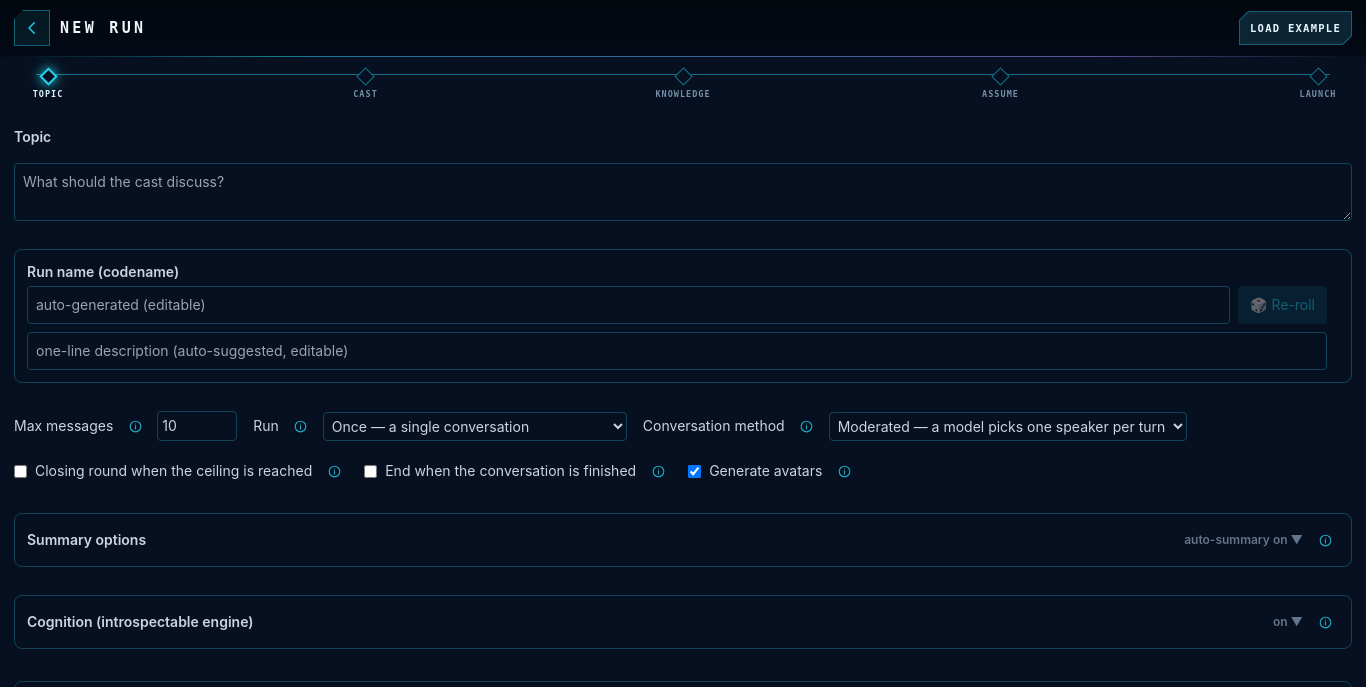
NewRunForm run type › restores the operator choice when switching back to a single run
The image size is (1366, 687).
Expected: the dropdown next to "Once" is shown, 323,412 -> 627,440
Click the button "Load example": (1296, 28) 1239,11 -> 1352,45
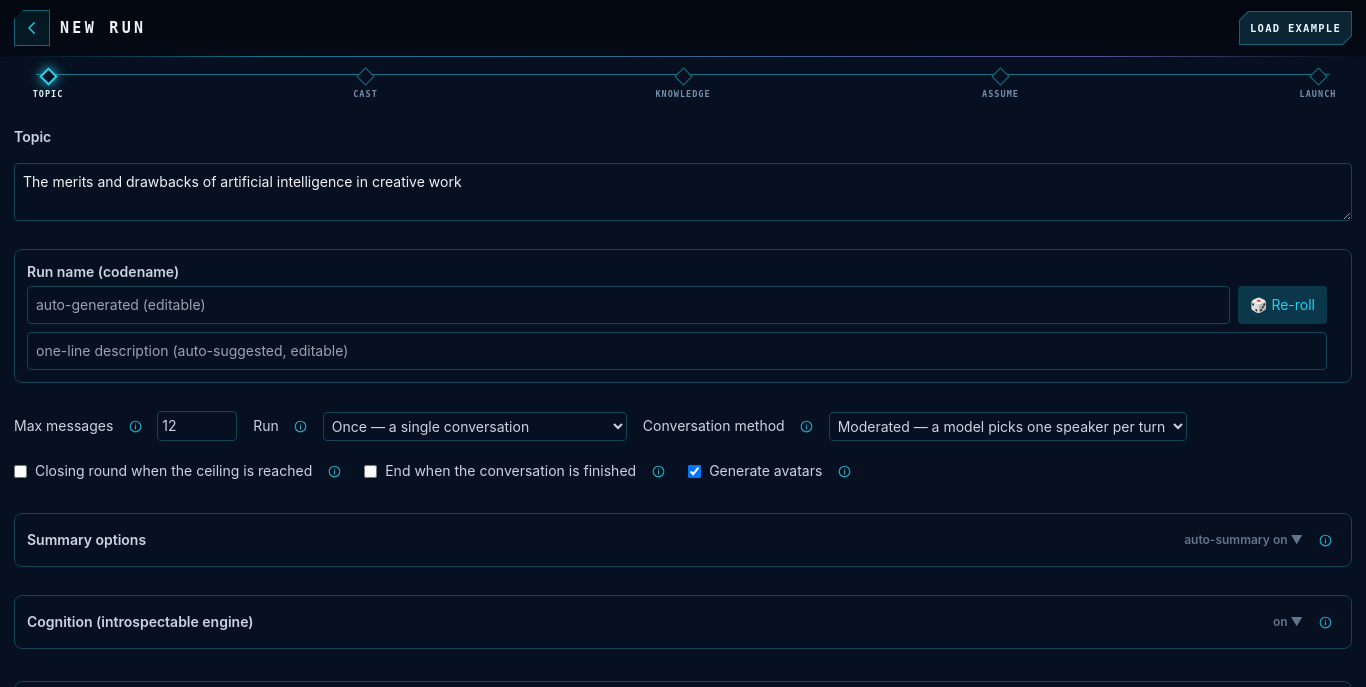
Expected: the checkbox labelled "Generate avatars" is checked, 688,464 -> 701,478
Select "Several times — same brief, then a report" in the dropdown next to "Once": (475, 426) 323,412 -> 627,440
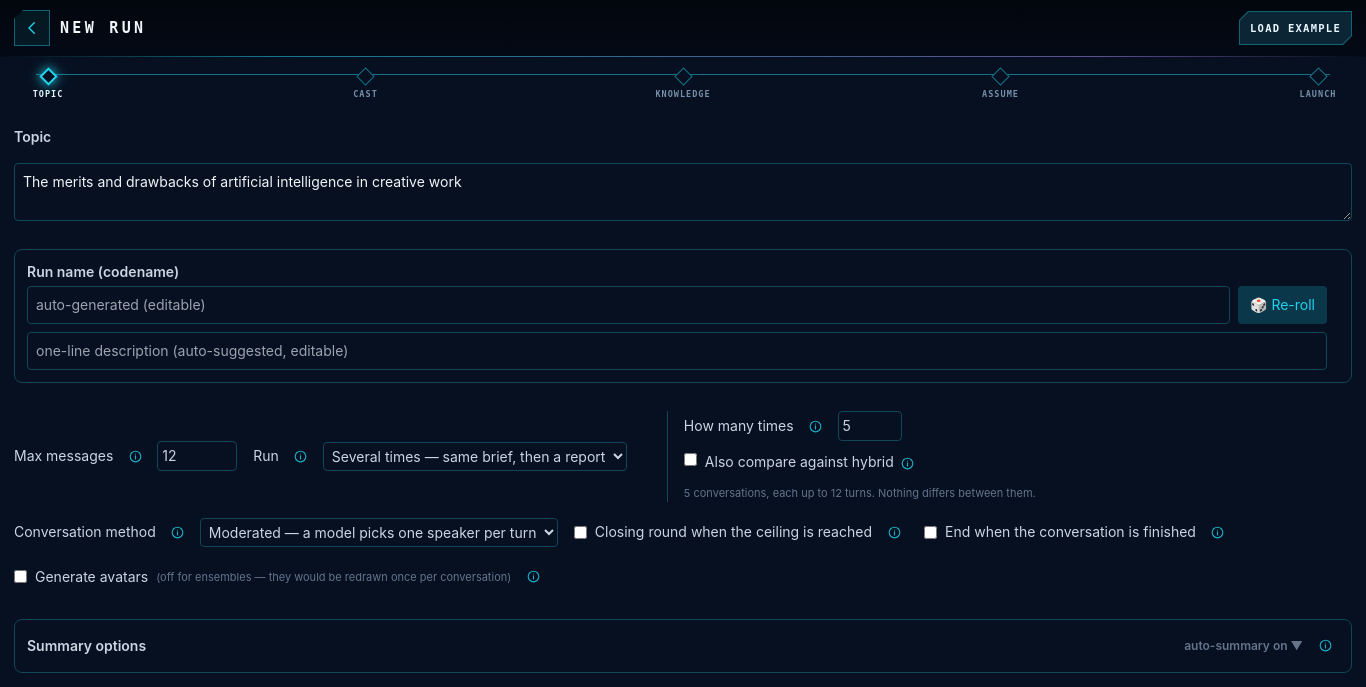
Now the checkbox labelled "Generate avatars" is not checked, box 14,570 -> 27,583
Select "Once — a single conversation" in the 1st dropdown: (475, 456) 323,442 -> 627,471
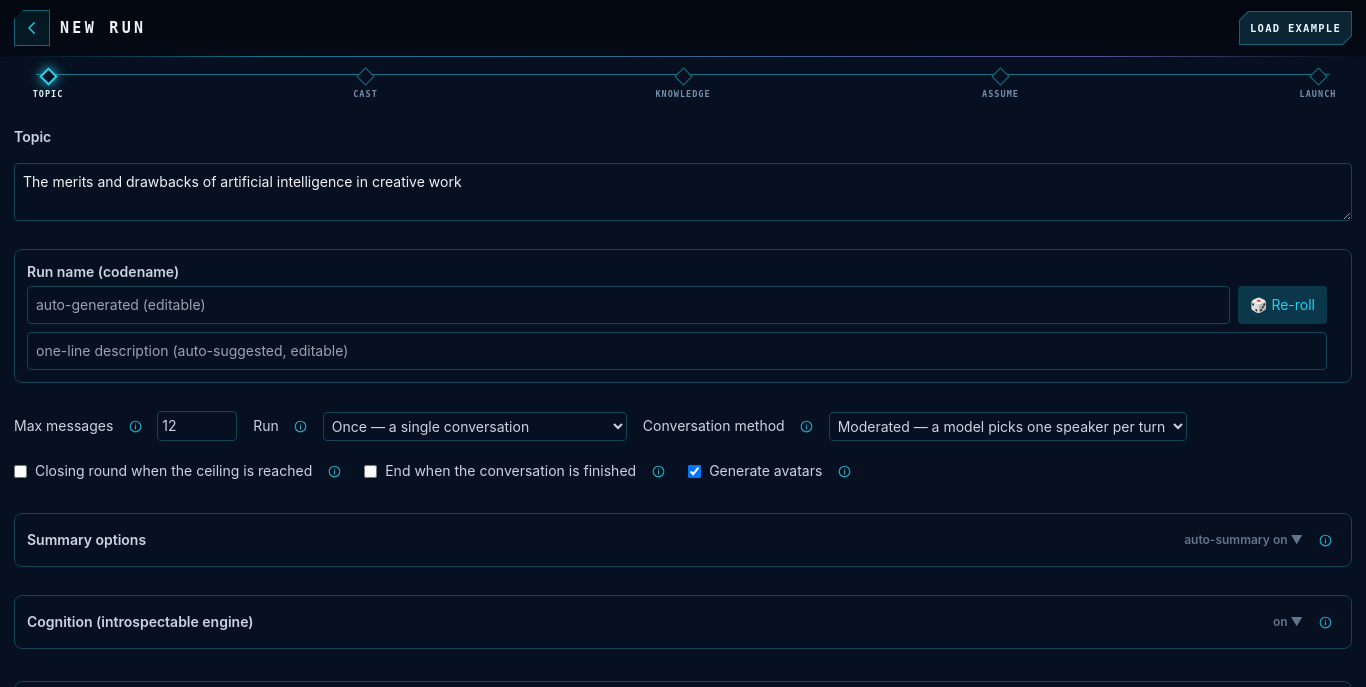
Now the checkbox labelled "Generate avatars" is checked, box 688,464 -> 701,478
